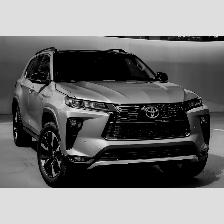NON-EV: (14, 47, 211, 187)
